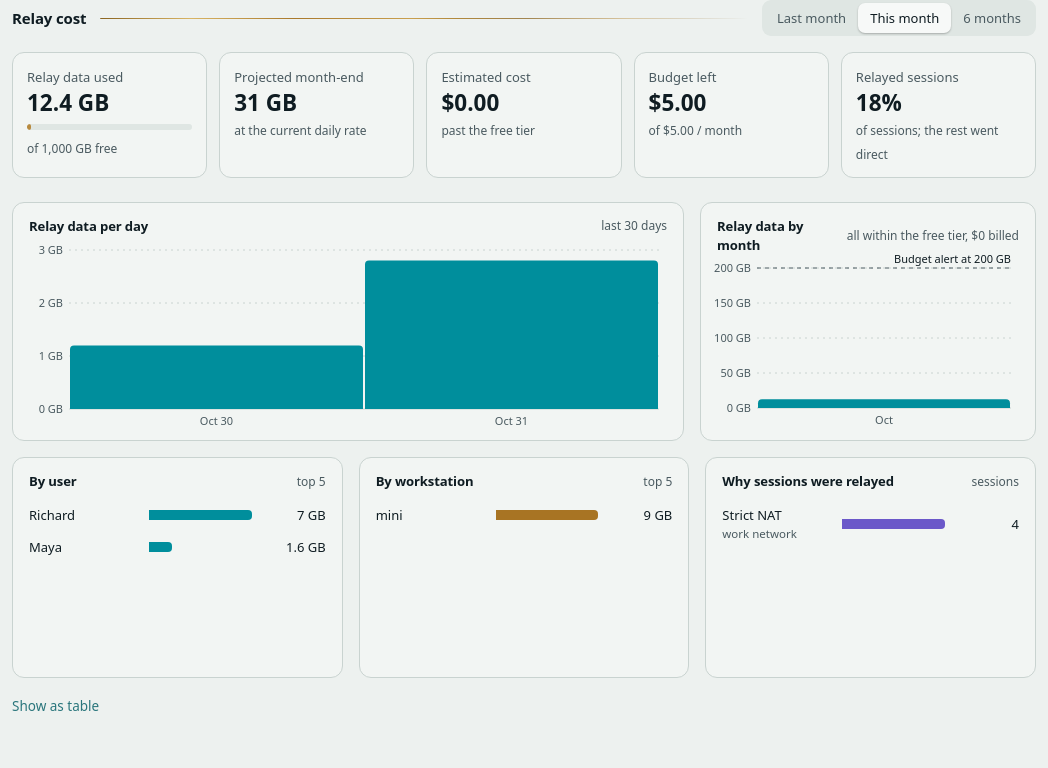
Scenario: 5 tiles, 5 charts, and Show as table reveals a table
Expected: the text "Relay data used" is shown, [27,68,123,86]
Expected: the text "Projected month-end" is shown, [234,68,364,86]
Click the button "Show as table".
click(56, 707)  # box [12,696,99,717]
(page scrolled)
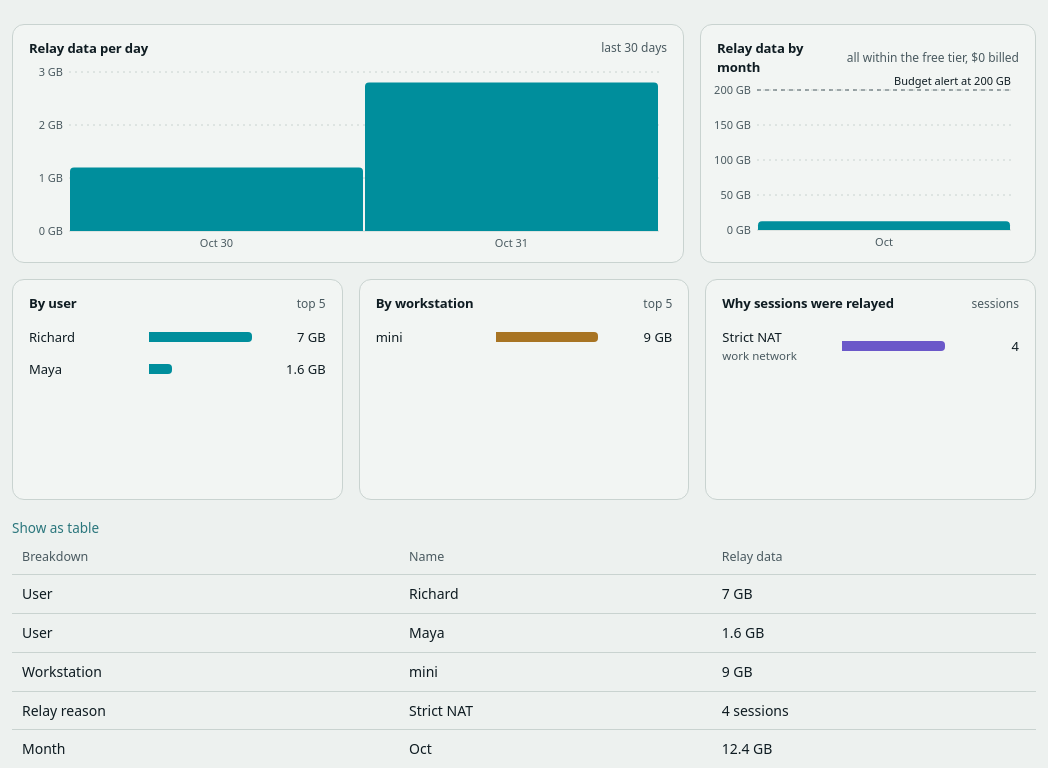
Expected: the table is shown, [12,547,1036,767]
